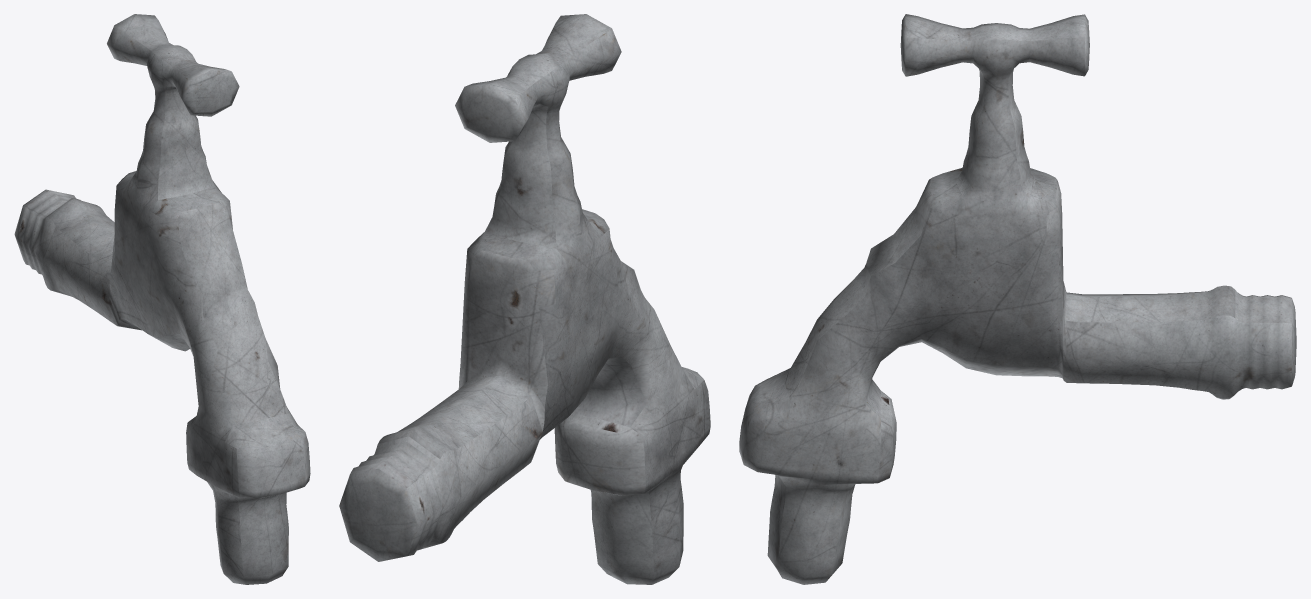
File: WaterTap.fbx
The picture shows the model from 3 angles, left to right: view 1: azimuth 30°, elevation 25°; view 2: azimuth 150°, elevation 25°; view 3: azimuth 270°, elevation 25°; orthographic projection. The views are drawn at different scales.
Visible parts, largest first — view 1: WaterTap; view 2: WaterTap; view 3: WaterTap.
Boxes of the visible parts, <box> form: WaterTap: <box>14,14,310,584</box>; WaterTap: <box>339,14,710,584</box>; WaterTap: <box>739,14,1296,584</box>.
Size of the model in its own units: 5.27 by 32.33 by 29.24.
Materials: 1 (1 with a texture image).
